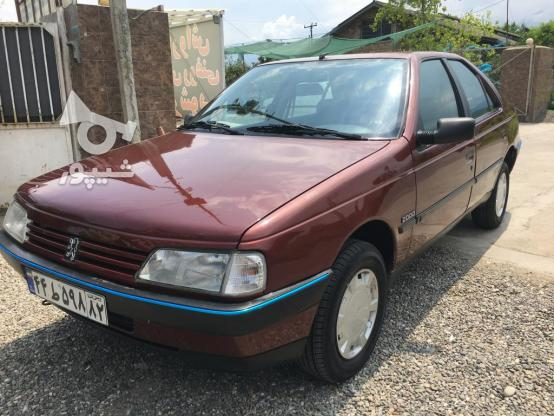car: (21, 262, 107, 330)
